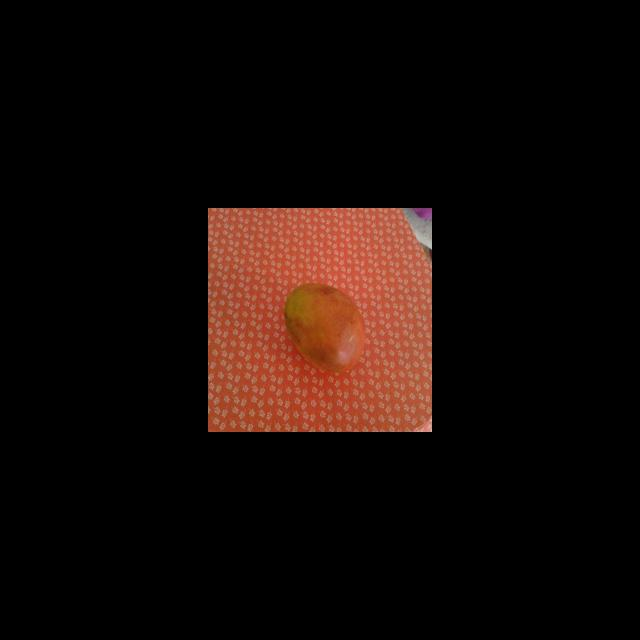Mango: (283, 282, 365, 372)
